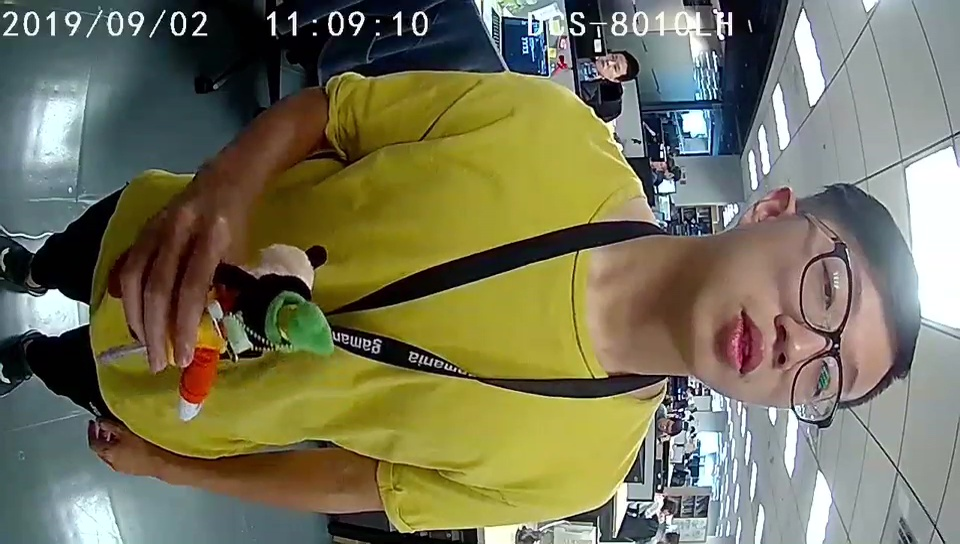goofy: (181, 264, 334, 420)
